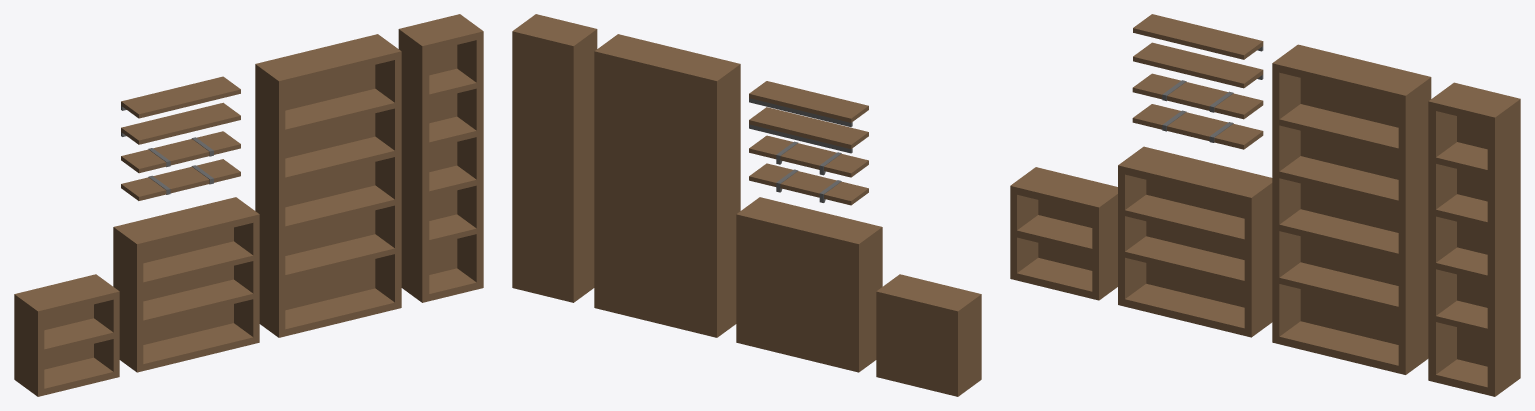
Rendered from Bookshelf Set.fbx.
The picture shows the model from 3 angles, left to right: view 1: azimuth 30°, elevation 25°; view 2: azimuth 150°, elevation 25°; view 3: azimuth 330°, elevation 25°; orthographic projection. The views are drawn at different scales.
Visible parts, largest first — view 1: Bookshelf_Large, Bookshelf_Tall, Bookshelf_Small, Bookshelf_Mini, Shelf_Wall_1, Shelf_Wall_2, Shelf_Wall_3, Shelf_Wall_4; view 2: Bookshelf_Large, Bookshelf_Tall, Bookshelf_Small, Bookshelf_Mini, Shelf_Wall_2, Shelf_Wall_1, Shelf_Wall_3, Shelf_Wall_4; view 3: Bookshelf_Large, Bookshelf_Tall, Bookshelf_Small, Bookshelf_Mini, Shelf_Wall_1, Shelf_Wall_2, Shelf_Wall_4, Shelf_Wall_3.
Boxes of the visible parts, box(x1,y1,x2,y2) form: Bookshelf_Large: box(255, 34, 401, 337); Bookshelf_Tall: box(398, 14, 483, 302); Bookshelf_Small: box(113, 197, 259, 372); Bookshelf_Mini: box(14, 274, 119, 396); Shelf_Wall_1: box(121, 76, 240, 118); Shelf_Wall_2: box(121, 102, 240, 144); Shelf_Wall_3: box(121, 131, 240, 173); Shelf_Wall_4: box(121, 159, 240, 200); Bookshelf_Large: box(594, 34, 740, 337); Bookshelf_Tall: box(512, 14, 597, 302); Bookshelf_Small: box(736, 197, 882, 372); Bookshelf_Mini: box(876, 274, 981, 396); Shelf_Wall_2: box(749, 107, 868, 153); Shelf_Wall_1: box(749, 81, 868, 126); Shelf_Wall_3: box(749, 135, 868, 177); Shelf_Wall_4: box(749, 163, 868, 205); Bookshelf_Large: box(1272, 44, 1431, 374); Bookshelf_Tall: box(1428, 82, 1520, 396); Bookshelf_Small: box(1118, 146, 1272, 337); Bookshelf_Mini: box(1010, 167, 1117, 300); Shelf_Wall_1: box(1133, 14, 1263, 59); Shelf_Wall_2: box(1133, 42, 1263, 88); Shelf_Wall_4: box(1132, 104, 1263, 149); Shelf_Wall_3: box(1132, 73, 1263, 119).
Size of the model in its own units: 218 by 120 by 20.2.
